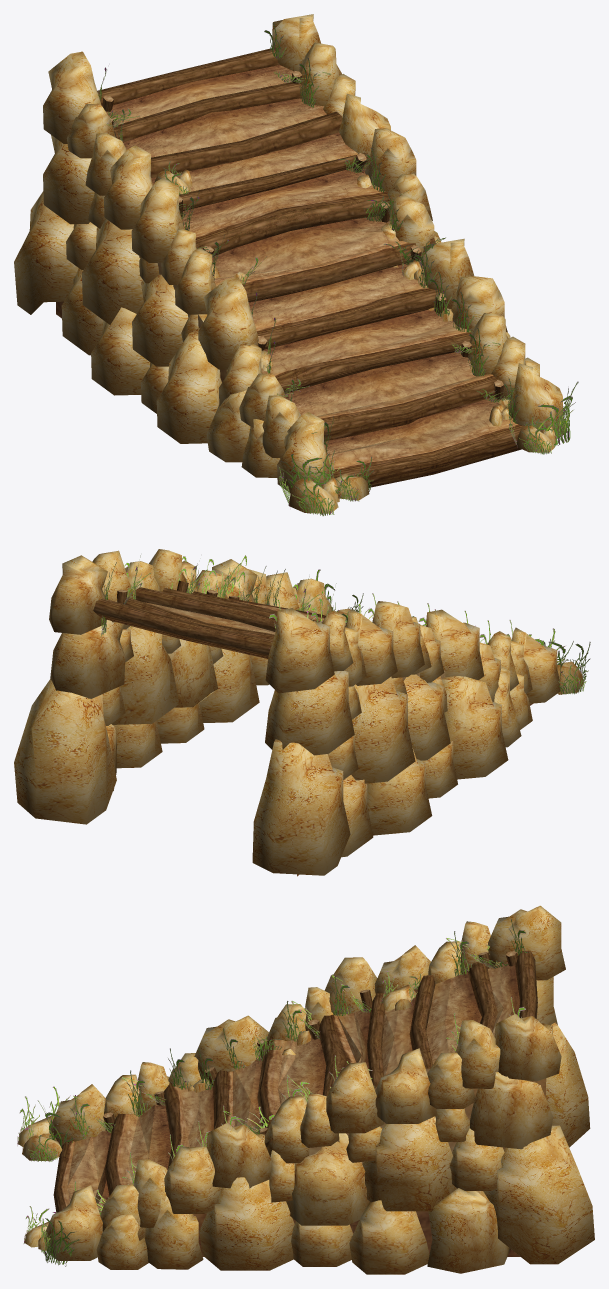
File: a_SEbstair01.glb
3 renders of one model, top to bottom at view 1: azimuth 30°, elevation 25°; view 2: azimuth 150°, elevation 25°; view 3: azimuth 270°, elevation 25°, orthographic. The views are drawn at different scales.
Visible parts, largest first — view 1: a_SEbstair01; view 2: a_SEbstair01; view 3: a_SEbstair01.
Boxes of the visible parts, x1,y1,x2,y2 form: a_SEbstair01: (14, 14, 578, 516); a_SEbstair01: (14, 549, 590, 876); a_SEbstair01: (17, 905, 594, 1274).
Bounding box in the file's own units: 6.86 × 5.3 × 10.88.
Materials: 4 (4 with a texture image).
